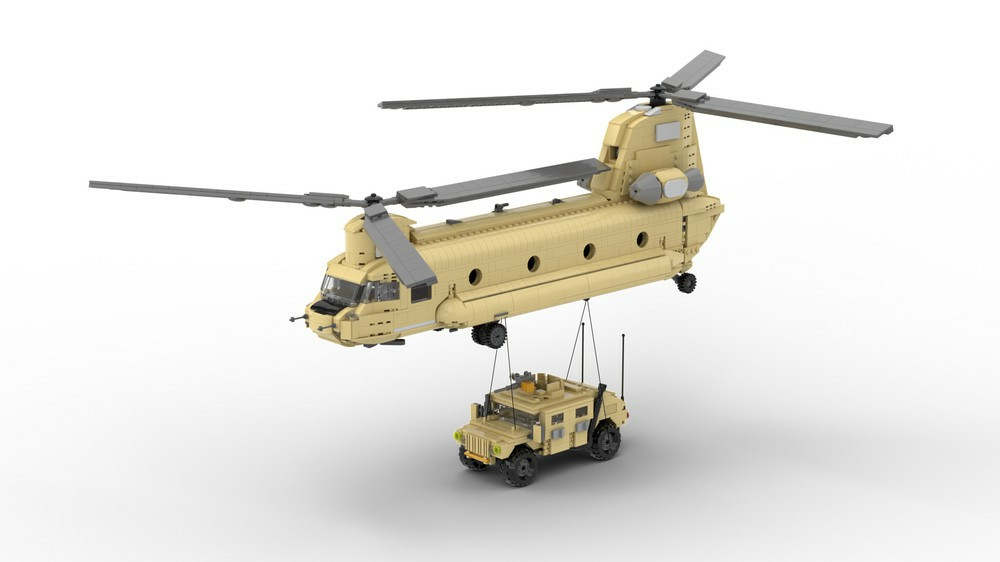HMMWV: (452, 361, 633, 488)
chinook: (224, 60, 747, 351)
